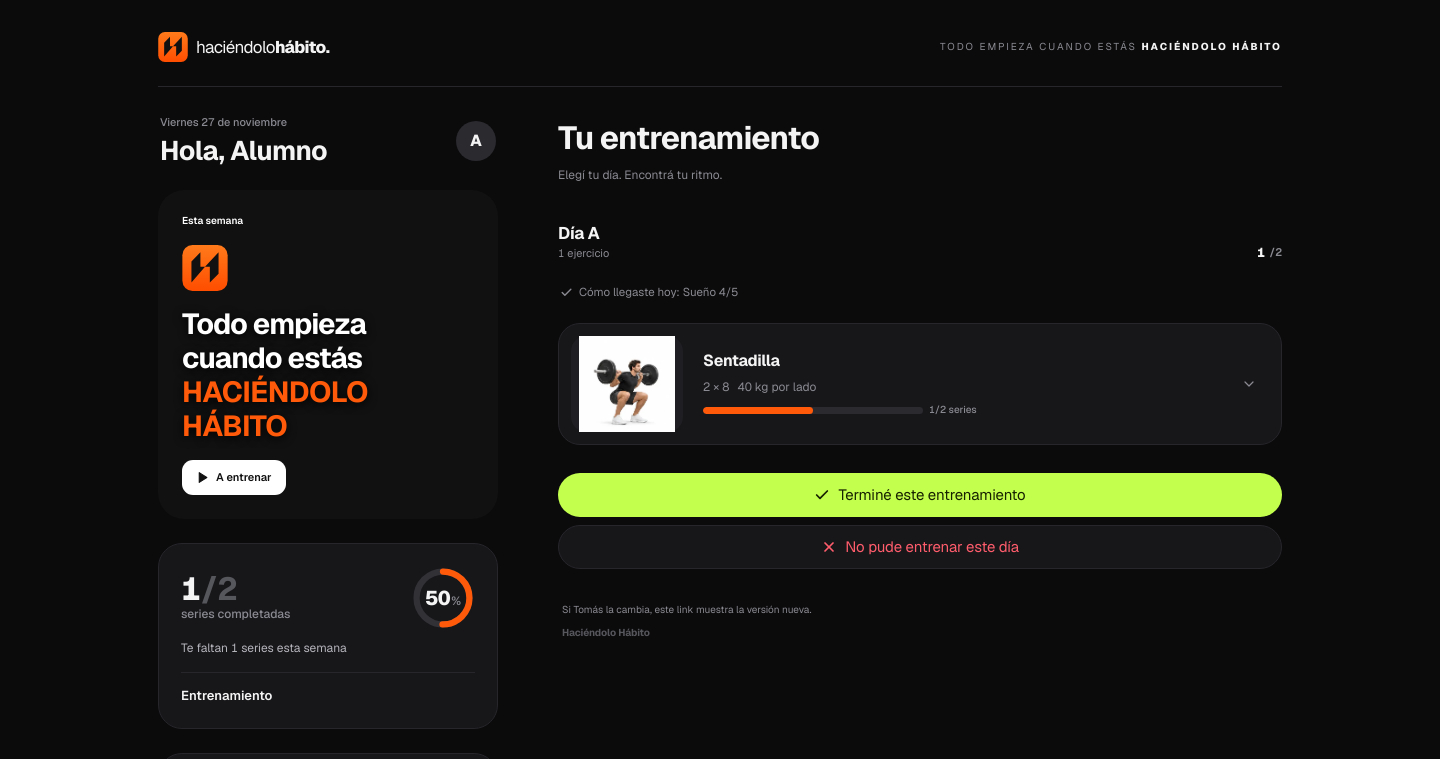
Test case: registro del alumno en la rutina por link › peso total o por lado (feedback nov19, tanda 3) › sin la migración no ofrece elegir y guarda como antes
The width and height of the screenshot is (1440, 759).
Click the button with class "hhr-ex-head" at (627,384), box left=559, top=324, right=1281, bottom=444
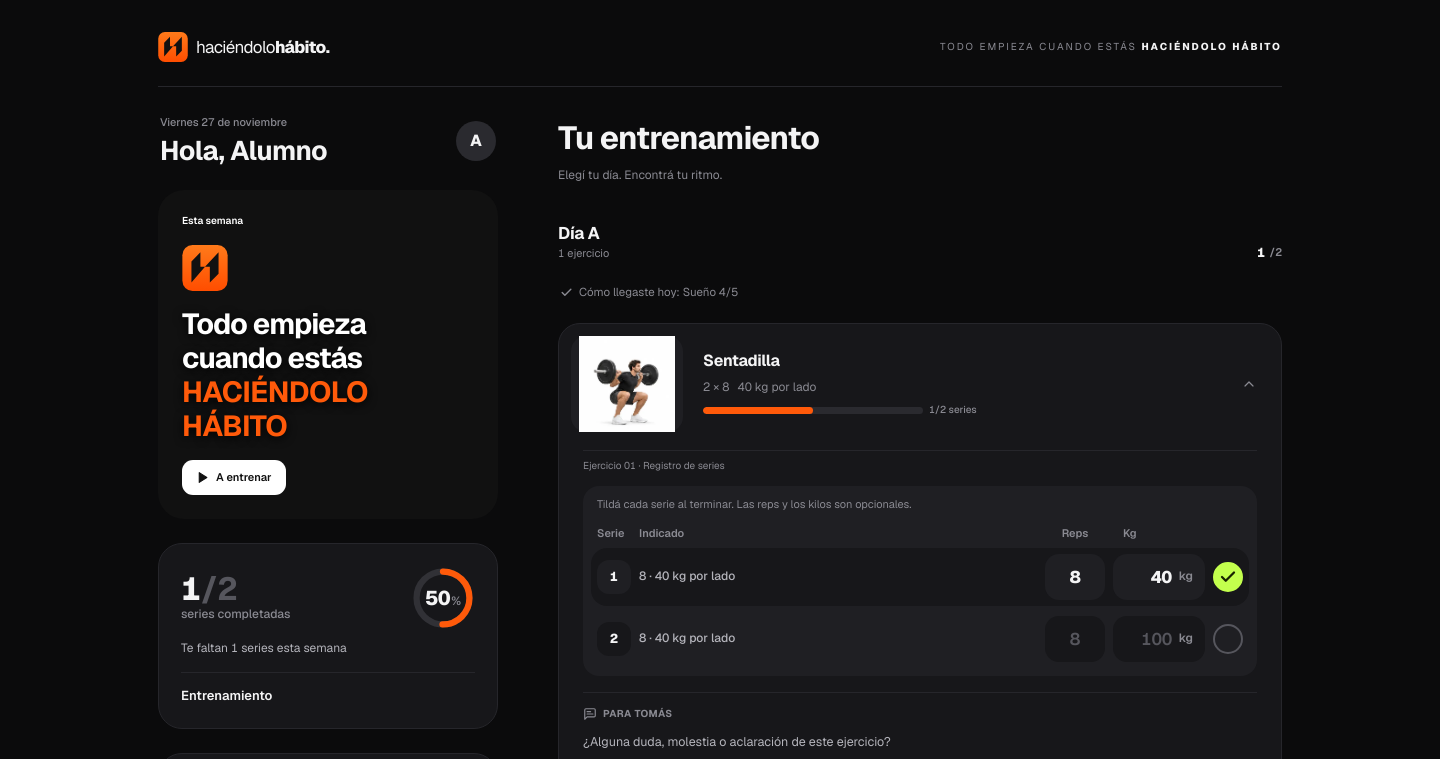
Check: the 1st text with class "hhr-settarget" shows "40 kg por lado", box left=639, top=568, right=735, bottom=584
